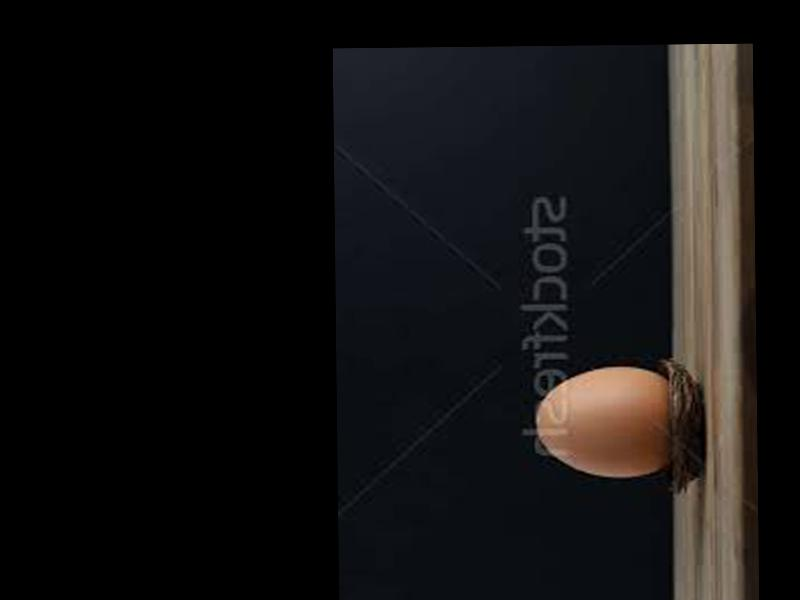Eggs: (536, 368, 673, 480)
